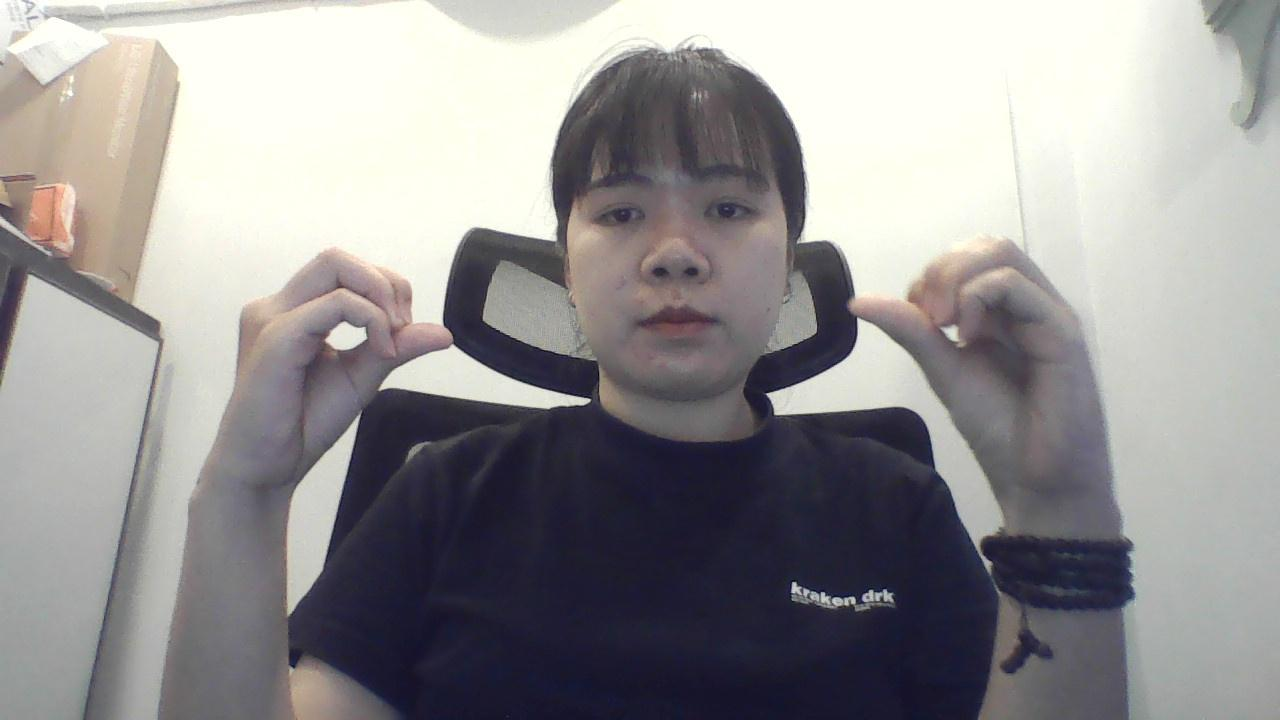S: (847, 197, 1118, 516), (200, 229, 466, 526)
